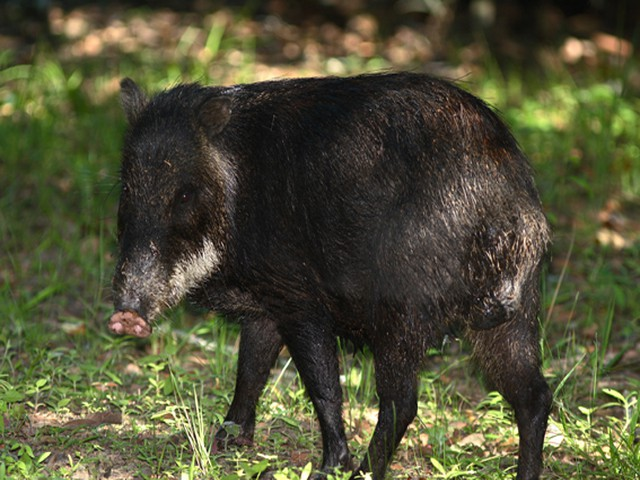Pig: (109, 72, 578, 461)
